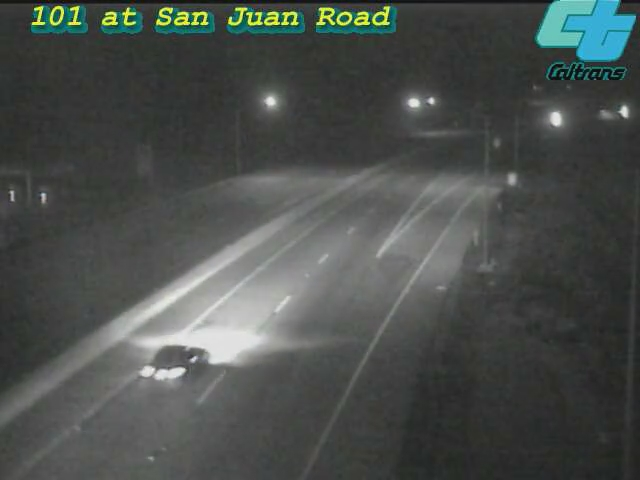vehicle: (122, 307, 232, 417), (584, 90, 634, 140), (532, 94, 582, 144), (598, 87, 640, 137)
